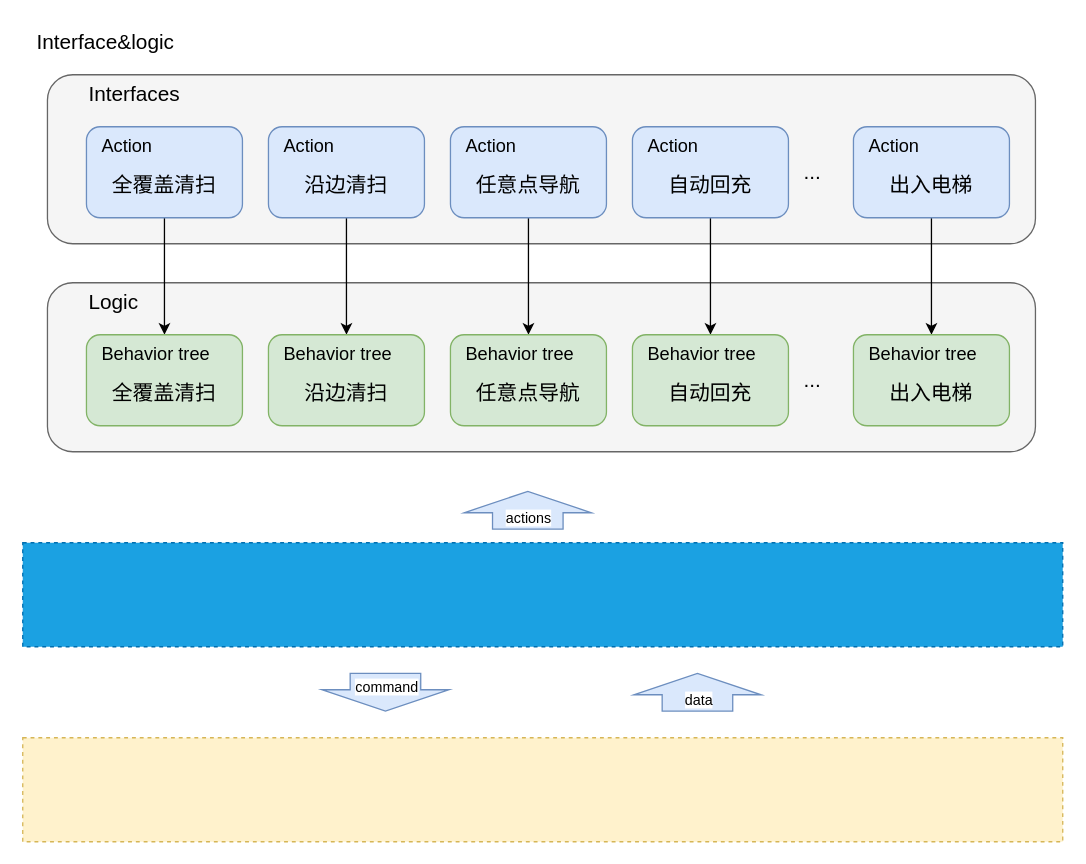
Image size: 1086x864. Some labels were removed from this diagram. The centre of each missing label's shape, as x and y in pixels:
Algorithm CORE: the point at 542,594
Driver: the point at 542,789
